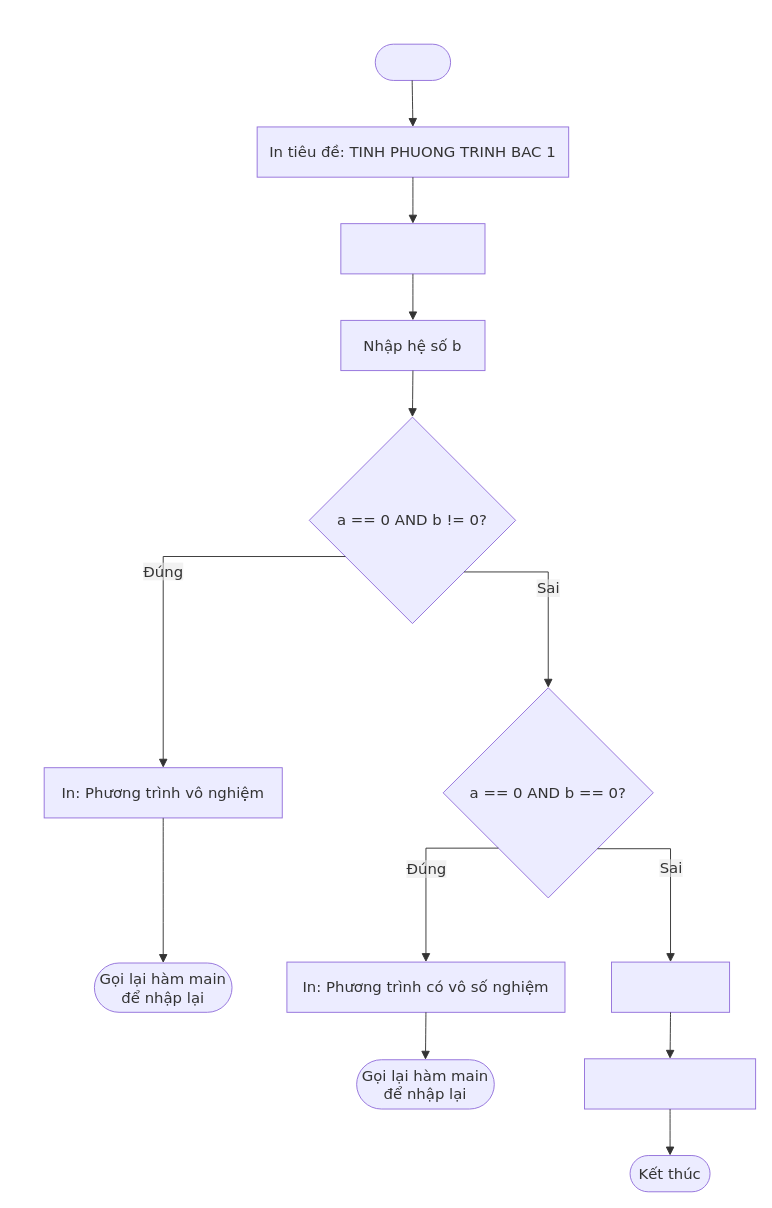
Image size: 772x1208. Some labels were removed from this diagram. The shapes that lost their labels are listed below. From the top down, each one's centre as x and y in pixels, then its label:
point (412, 61): Bắt đầu
point (412, 248): Nhập hệ số a
point (670, 986): x = -b / a
point (670, 1083): In nghiệm x: %.2f
